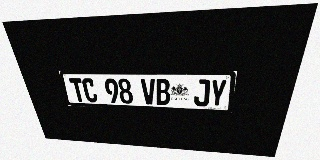8: (117, 78, 133, 104)
9: (104, 78, 120, 103)
B: (155, 79, 170, 105)
C: (81, 78, 98, 102)
J: (194, 79, 210, 107)
T: (69, 78, 86, 102)
V: (141, 79, 156, 105)
Y: (209, 79, 227, 107)
